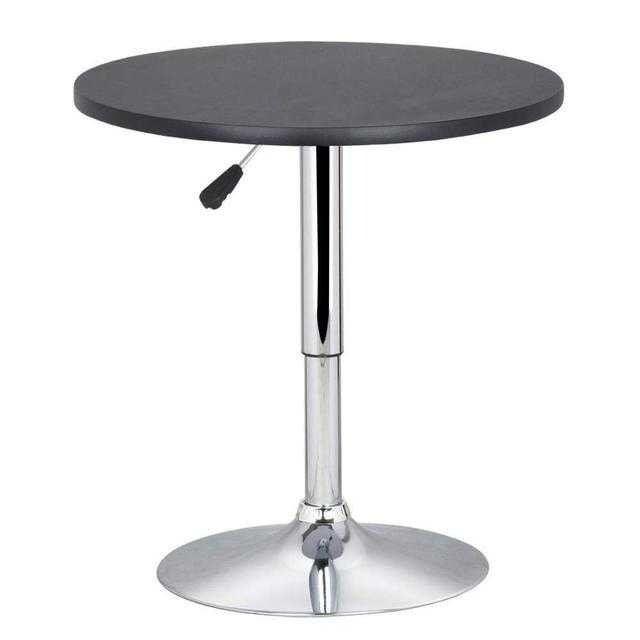obstacle: (74, 42, 562, 614)
